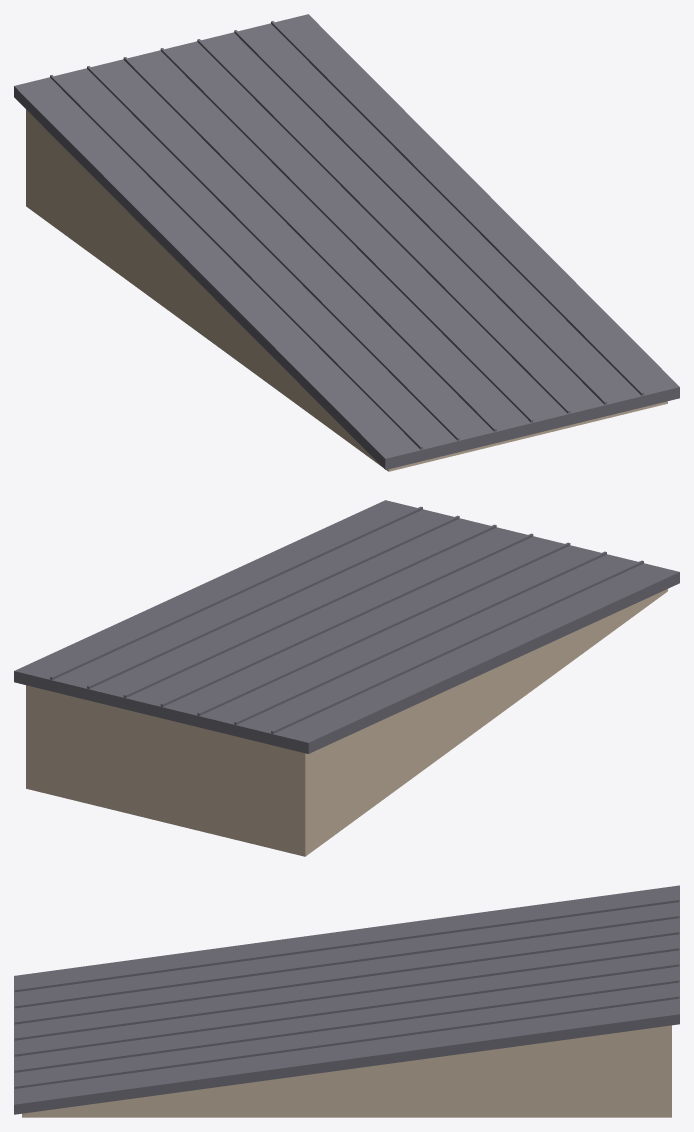
File: SM_Roof_NarrowShedFront_Cream_364_01.gltf
The picture shows the model from 3 angles, top to bottom: view 1: azimuth 30°, elevation 25°; view 2: azimuth 150°, elevation 25°; view 3: azimuth 270°, elevation 25°; orthographic projection. The views are drawn at different scales.
Visible parts, largest first — view 1: SM_Roof_NarrowShedFront_Cream_364_01; view 2: SM_Roof_NarrowShedFront_Cream_364_01; view 3: SM_Roof_NarrowShedFront_Cream_364_01.
Part boxes in pixels (x1,y1,x2,y2): SM_Roof_NarrowShedFront_Cream_364_01: (14,14,679,471); SM_Roof_NarrowShedFront_Cream_364_01: (14,500,679,856); SM_Roof_NarrowShedFront_Cream_364_01: (14,885,679,1117).
Bounding box in the file's own units: 3.84 × 1.51 × 8.39.
1 material, 1 textured.
